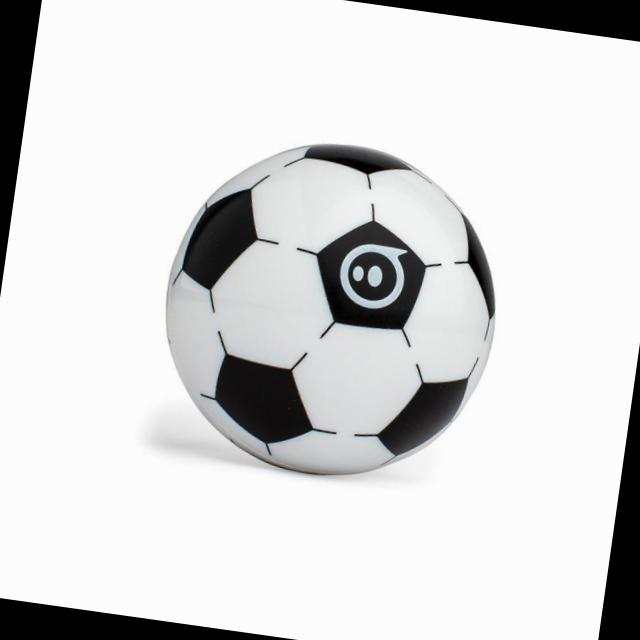Soccer Ball: (145, 122, 516, 500)
